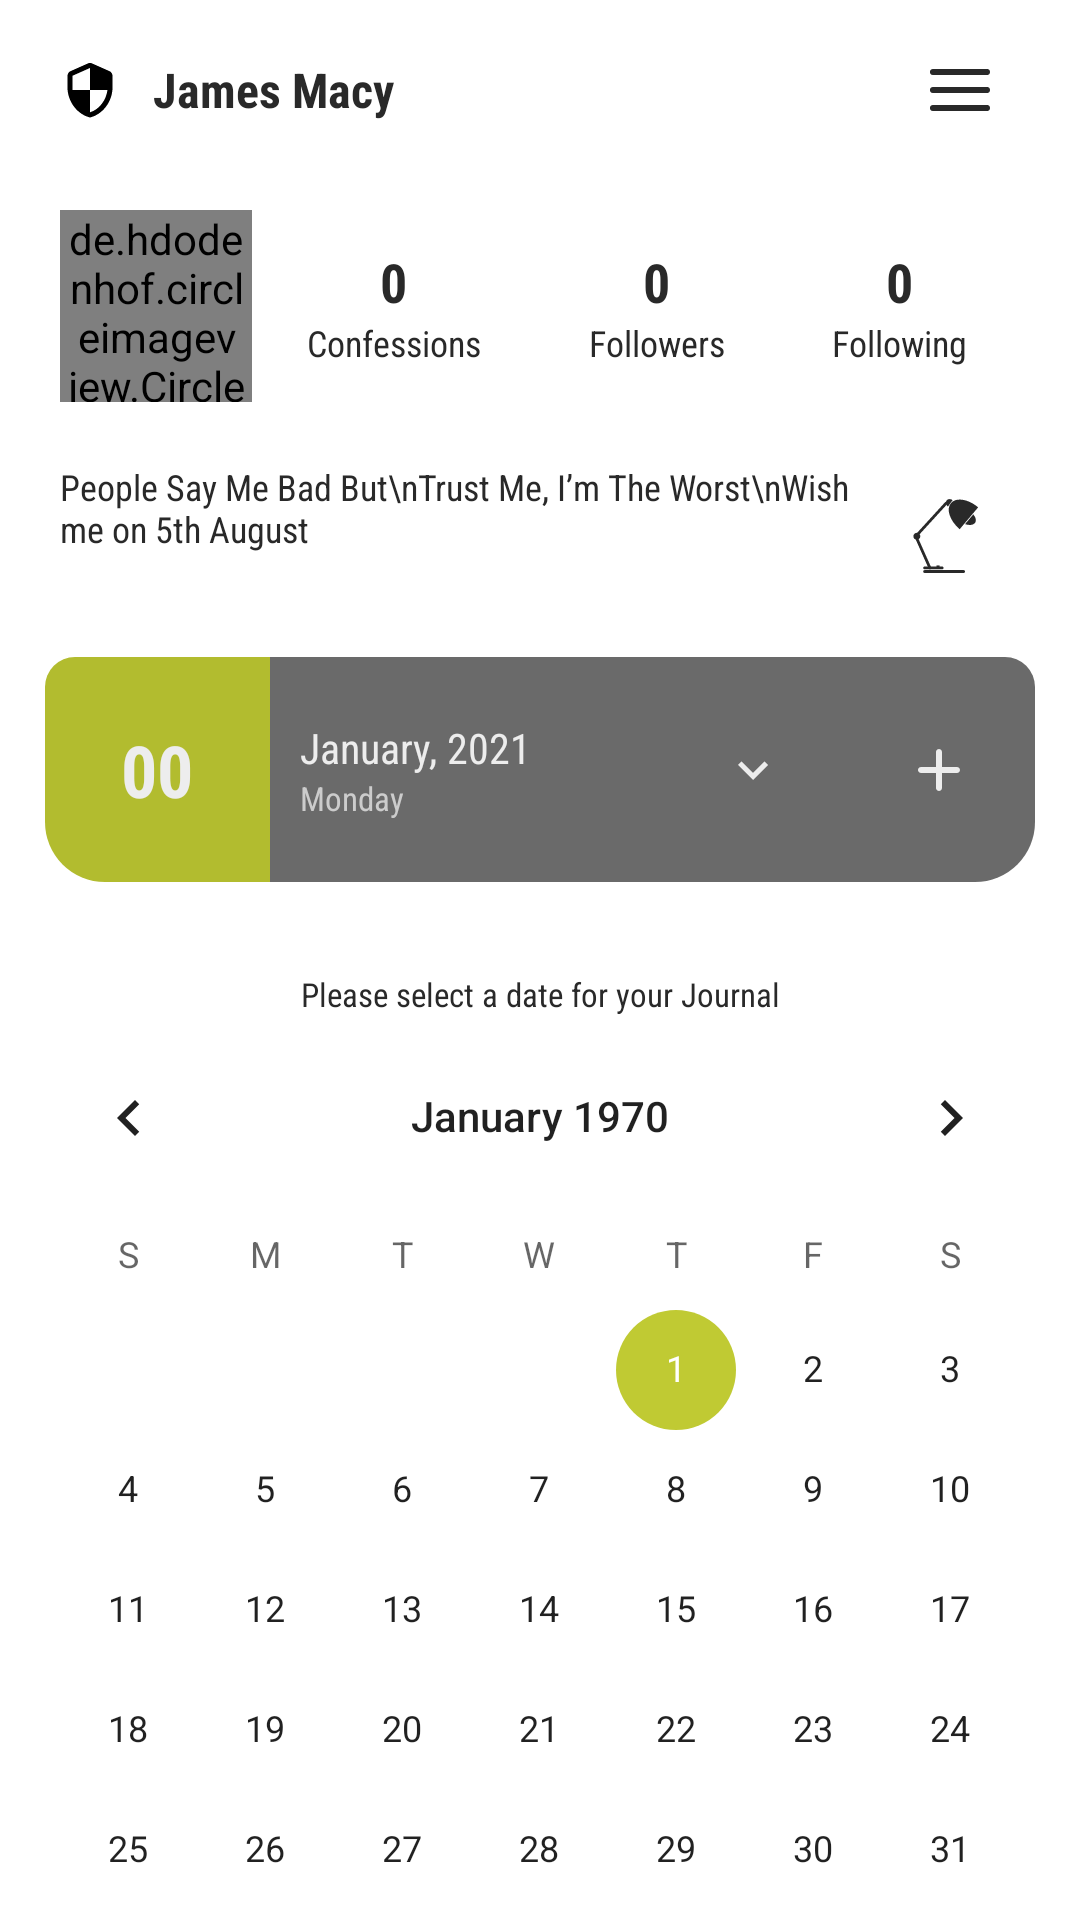

Where to tap for icons on this 1080x1920 app screen, as (x,y):
add: (939,769)
keyboard arrow down: (753,770)
table lamp: (945,536)
